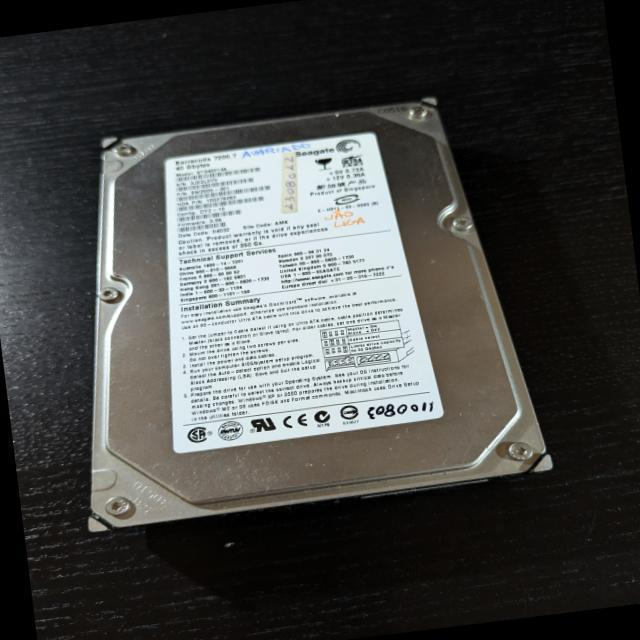DISK: (42, 86, 558, 536)
